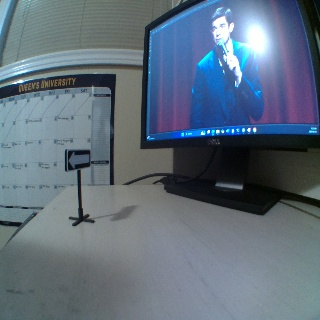sign_oneway_left: (65, 148, 90, 168)
